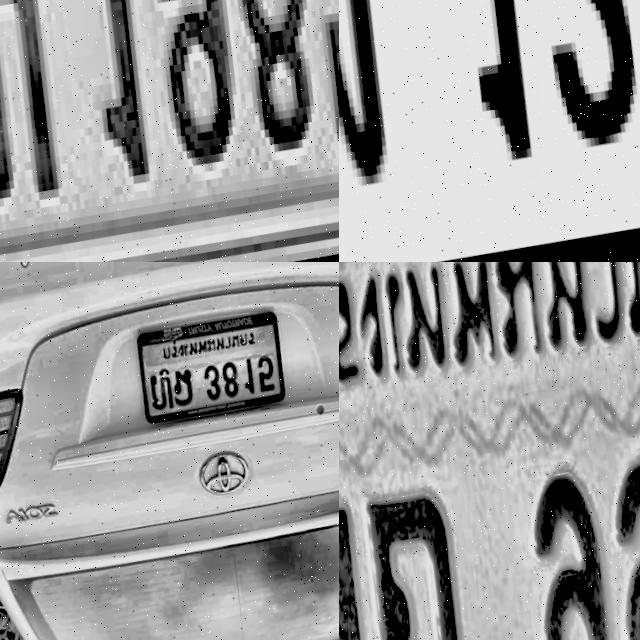license-plate: (339, 262, 640, 640), (0, 0, 339, 262), (339, 0, 640, 262), (134, 300, 300, 428)
